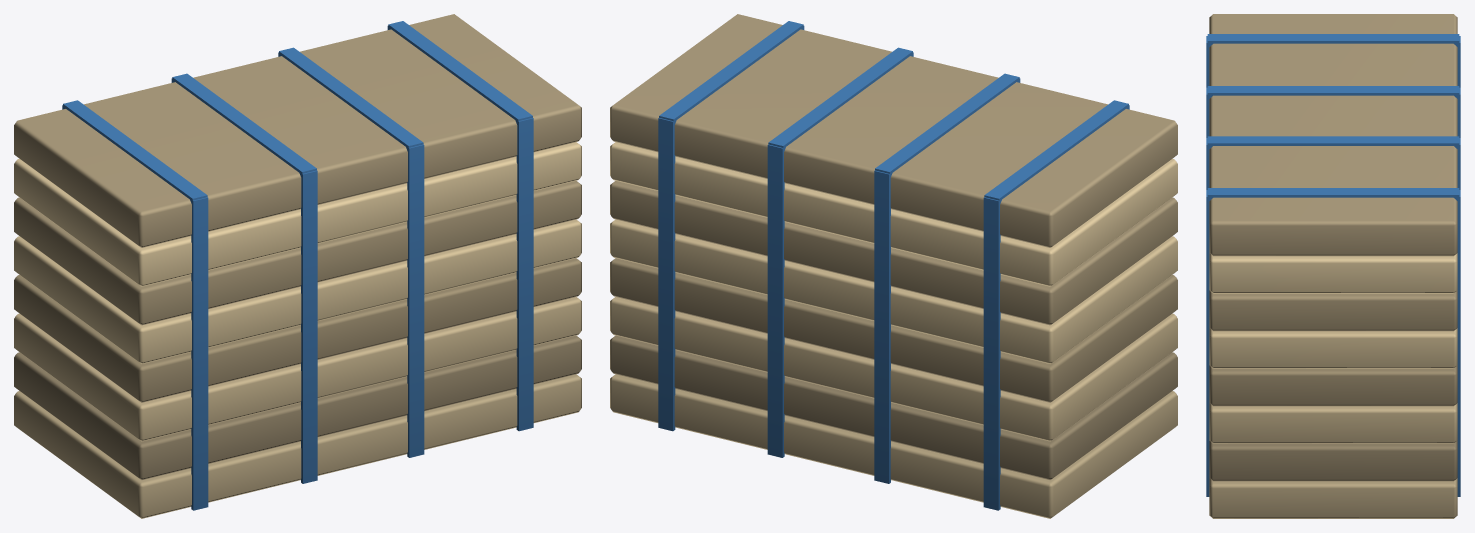
The model's file is CardboardBale_01.glb.
The picture shows the model from 3 angles, left to right: view 1: azimuth 30°, elevation 25°; view 2: azimuth 150°, elevation 25°; view 3: azimuth 270°, elevation 25°; orthographic projection. The views are drawn at different scales.
Visible parts, largest first — view 1: SM_CardboardBale_01; view 2: SM_CardboardBale_01; view 3: SM_CardboardBale_01.
Part boxes in pixels (<box>): SM_CardboardBale_01: <box>14,14,581,518</box>; SM_CardboardBale_01: <box>610,14,1177,518</box>; SM_CardboardBale_01: <box>1206,14,1460,518</box>.
Size of the model in its own units: 1.5 by 1.01 by 0.768.
1 material, 1 textured.
